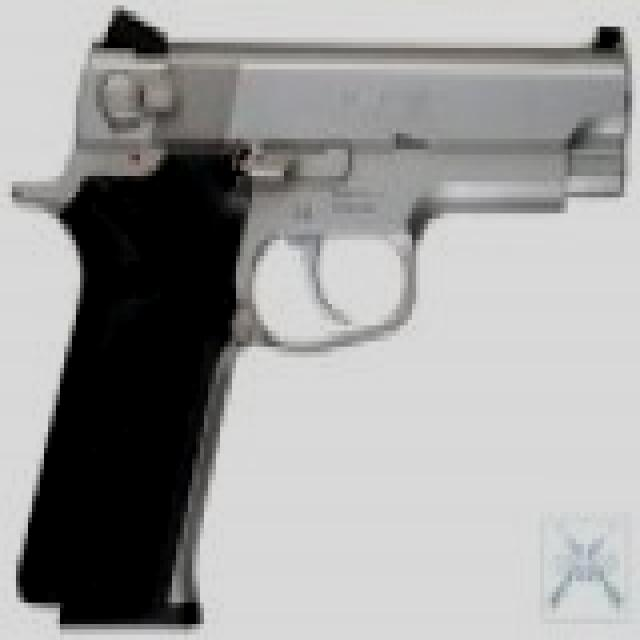pistol: (16, 16, 636, 629)
